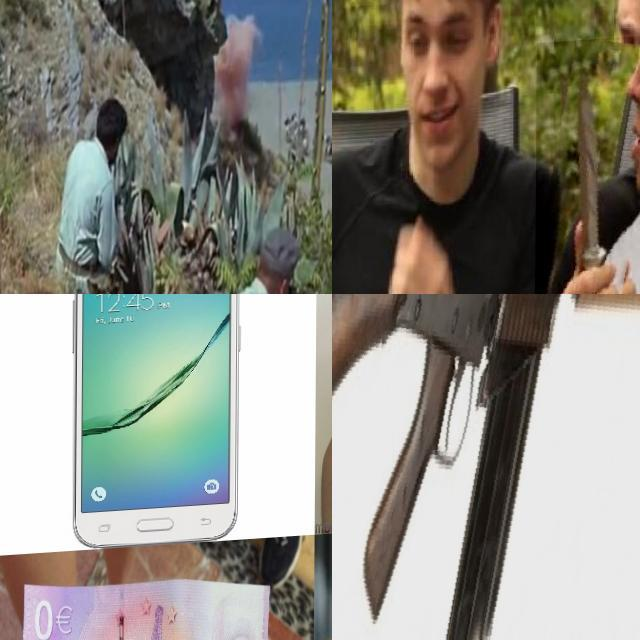-: (535, 41, 640, 294)
gun-knife-thesis - v11 Yolov5 augmented: (332, 294, 640, 640)
